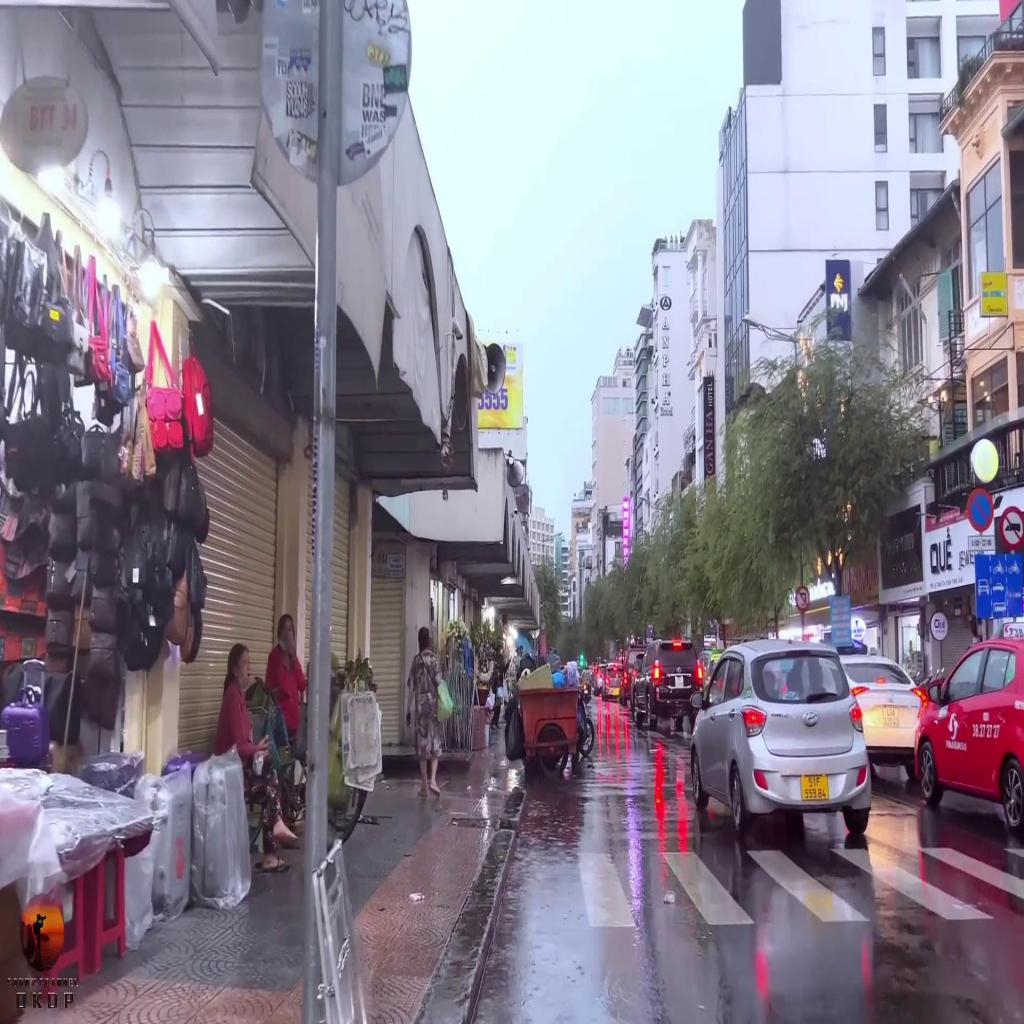cam_do_xe: (968, 487, 993, 531)
cam_o_to_re_trai: (796, 587, 810, 610)
cam_o_to_tai_trong_luong_qua_10t: (1000, 506, 1024, 548)
khac: (975, 556, 1022, 614), (971, 536, 996, 549)
